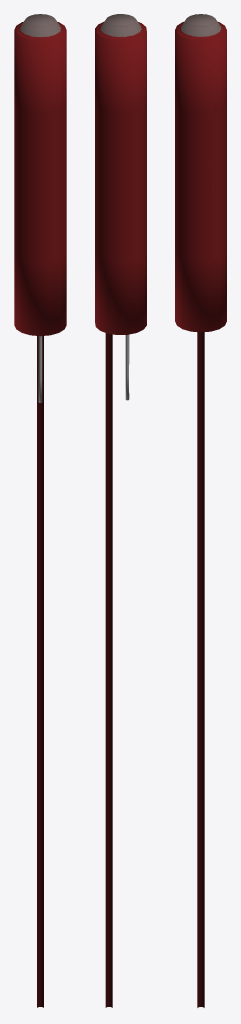
The model's file is 冲天炮.fbx.
3 views of the same model, side by side, from view 1: azimuth 90°, elevation 25°; view 2: azimuth 150°, elevation 25°; view 3: azimuth 270°, elevation 25° (orthographic).
Visible parts, largest first — view 1: 柱体.005; view 2: 柱体.005; view 3: 柱体.005.
Boxes of the visible parts, <box> form: 柱体.005: <box>14,14,66,1007</box>; 柱体.005: <box>95,14,146,1007</box>; 柱体.005: <box>175,14,226,1007</box>.
Bounding box in the file's own units: 3.23 × 67.49 × 3.23.
